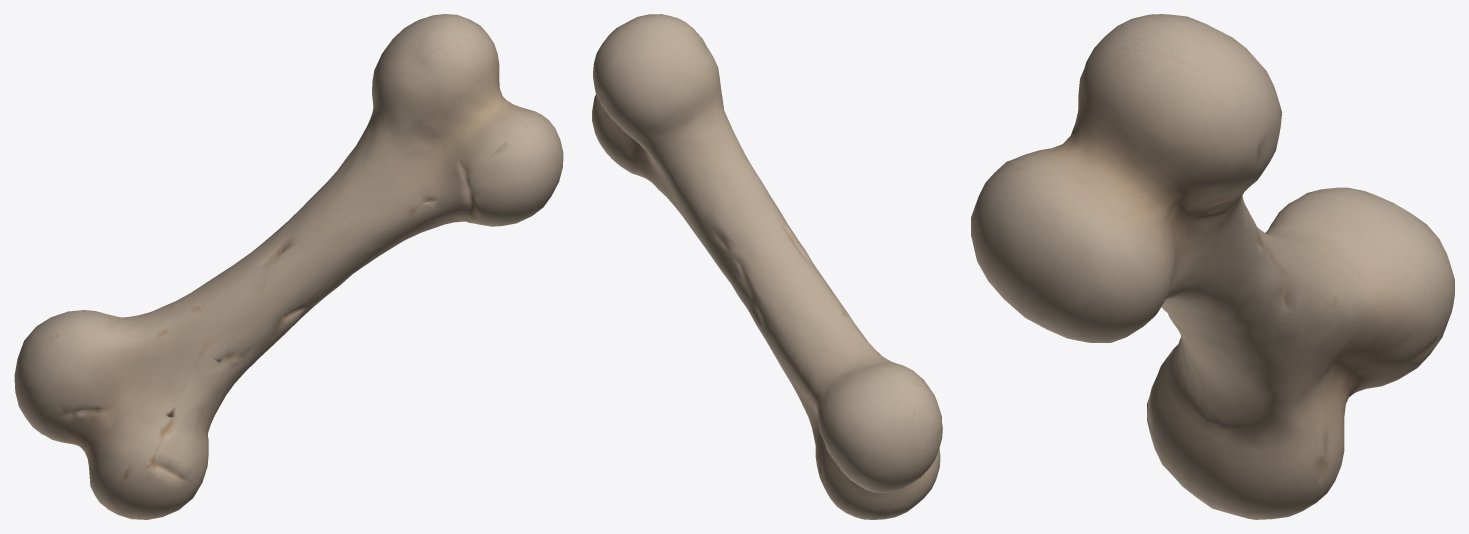
File: bone+3d+model.glb
3 views of the same model, side by side, from view 1: azimuth 30°, elevation 25°; view 2: azimuth 150°, elevation 25°; view 3: azimuth 270°, elevation 25° (orthographic). The views are drawn at different scales.
Visible parts, largest first — view 1: tripo_node_836f761a-c23c-4f1f-b105-0f1d5ef7f444; view 2: tripo_node_836f761a-c23c-4f1f-b105-0f1d5ef7f444; view 3: tripo_node_836f761a-c23c-4f1f-b105-0f1d5ef7f444.
Boxes of the visible parts, x1,y1,x2,y2 form: tripo_node_836f761a-c23c-4f1f-b105-0f1d5ef7f444: (14,14,563,519); tripo_node_836f761a-c23c-4f1f-b105-0f1d5ef7f444: (592,14,942,519); tripo_node_836f761a-c23c-4f1f-b105-0f1d5ef7f444: (971,14,1454,519).
Bounding box in the file's own units: 0.998 × 0.9551 × 0.6074.
1 material, 1 textured.
